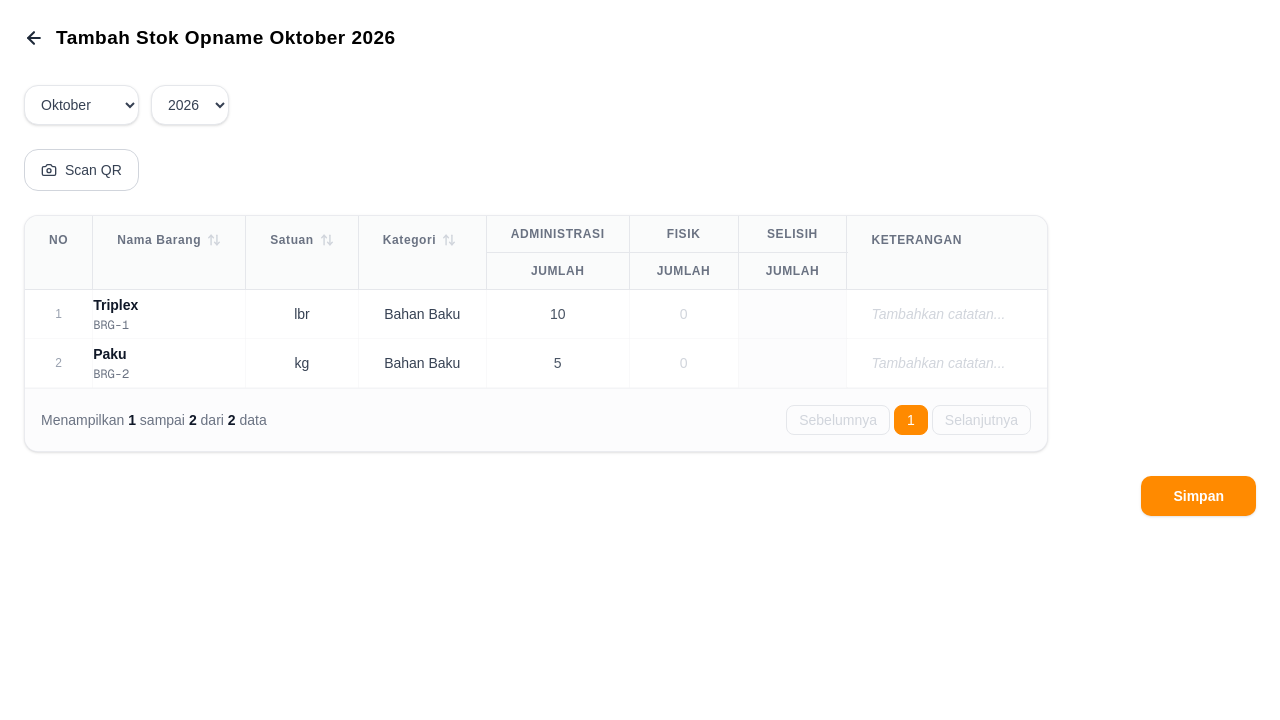
Scenario: StockOpnameTambah › refuses an empty form and does not ask for confirmation
expect the text "Triplex" is shown: met, box left=93, top=296, right=138, bottom=312
Click the button "Simpan": (1199, 496) left=1141, top=476, right=1256, bottom=516
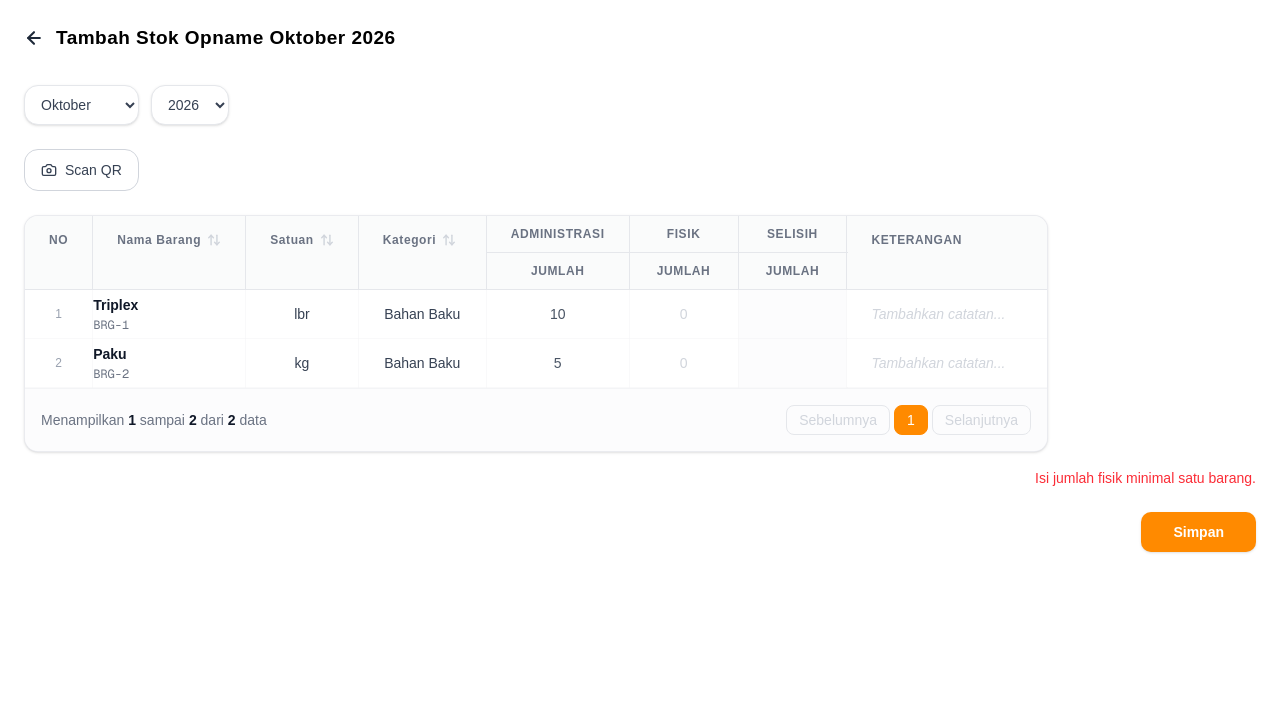
expect the text "Isi jumlah fisik minimal satu barang." is shown: met, box left=1035, top=470, right=1256, bottom=486
